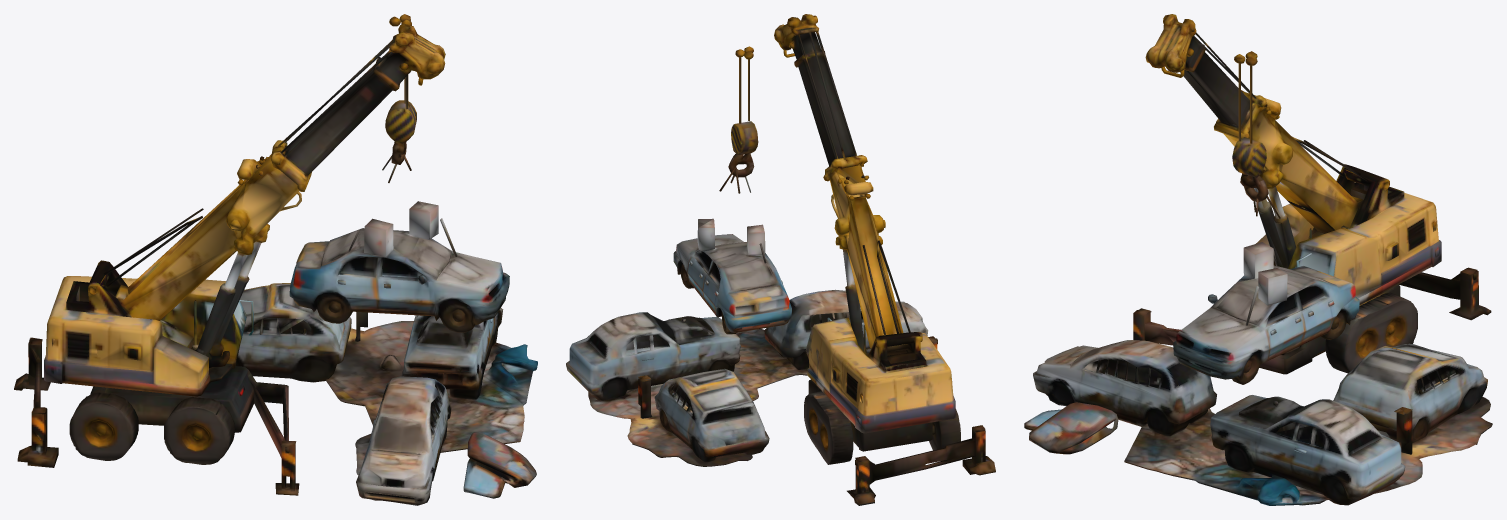
File: heavy_machinery__crane_from_junk_yard_with_magnet_for_lifting_cars_db884752_v3.glb
3 renders of one model, left to right at view 1: azimuth 30°, elevation 25°; view 2: azimuth 150°, elevation 25°; view 3: azimuth 270°, elevation 25°, orthographic. The views are drawn at different scales.
Parts seen in each view (by area): view 1: material; view 2: material; view 3: material.
Boxes of the visible parts, bbox=[...] form: material: bbox=[14, 14, 537, 505]; material: bbox=[566, 14, 995, 505]; material: bbox=[1024, 14, 1492, 505].
Bounding box in the file's own units: 1.9 × 1.53 × 1.58.
1 material, 1 textured.
